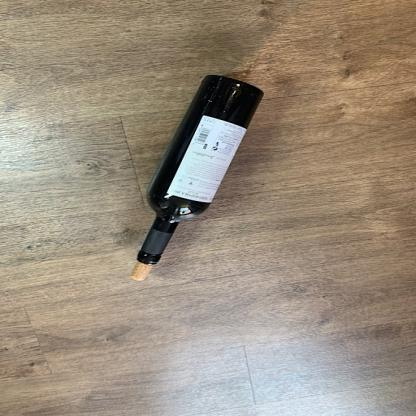trash: (132, 73, 269, 267)
